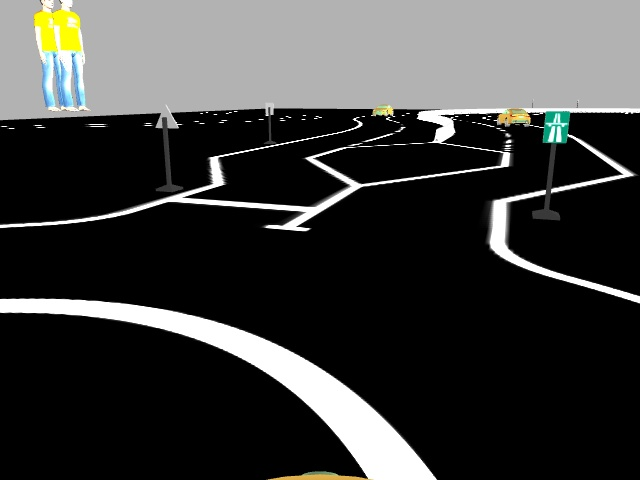HighwayEntrance: (543, 108, 571, 143)
